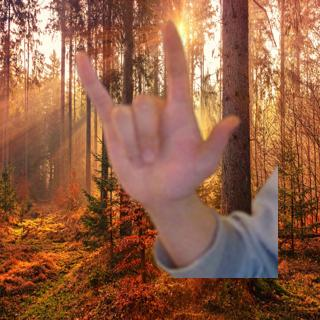ILY: (72, 17, 244, 209)
